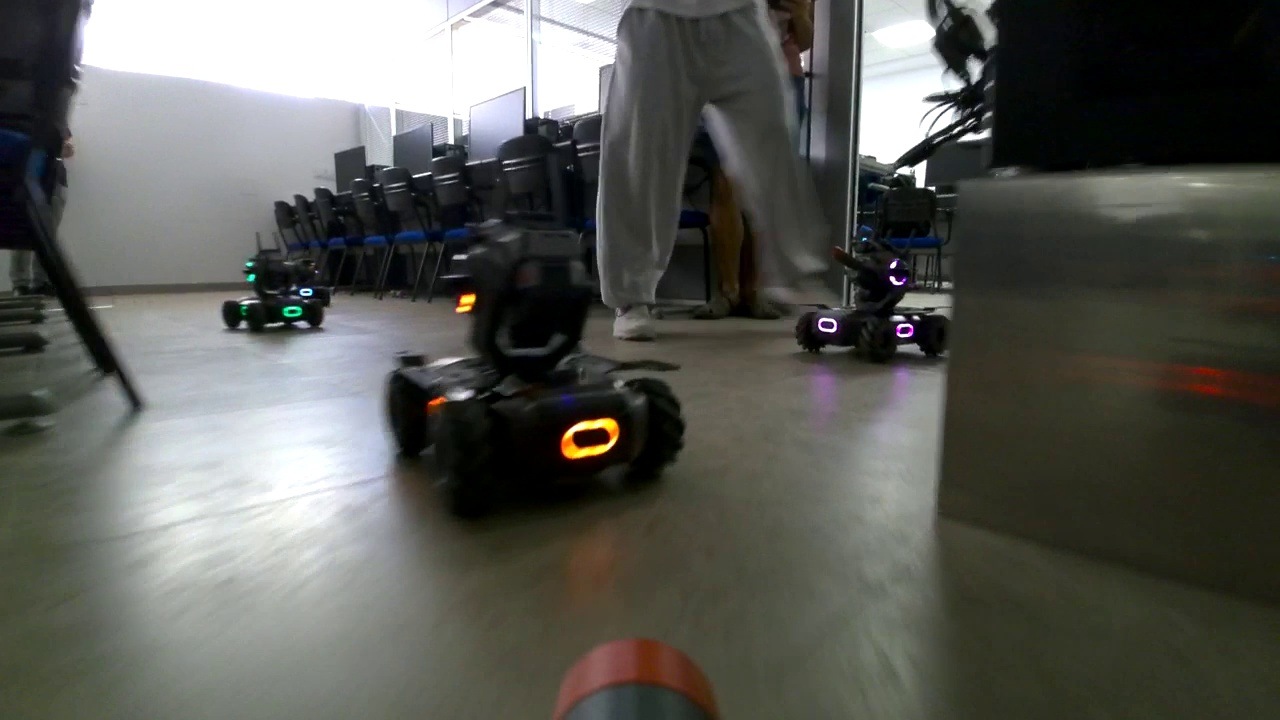robot: (386, 212, 686, 491), (791, 232, 949, 366), (220, 233, 325, 337), (267, 258, 334, 310)
